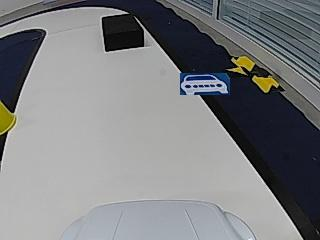block: (102, 14, 144, 51)
cone: (0, 100, 17, 134)
